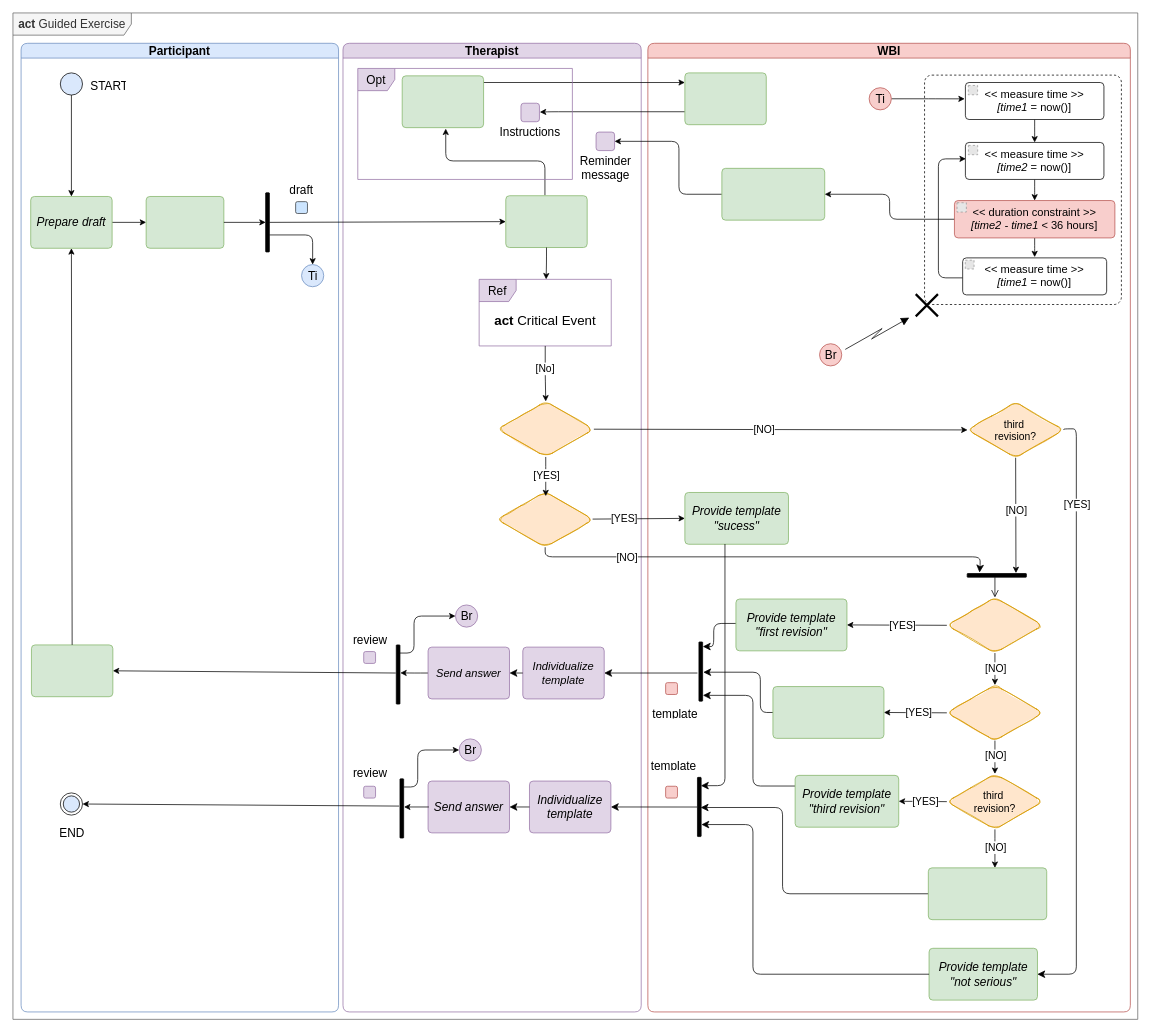
The diagram is 1151 pixels wide and 1032 high, and some of its shapes have lost their labels. Grey dashed boxes stand in for pictures. The shapes that lost their labels are listed below. From the top down, each one's centre as x and y in pixels, then its label:
point (442, 101): Click help button
point (725, 98): Provide instructions
point (773, 194): Send message
point (184, 222): Send draft
point (546, 221): Read draft
point (545, 429): serious done?
point (544, 519): sufficient answer?
point (994, 625): first revision?
point (72, 670): Read review
point (828, 712): Provide template "second revision"
point (994, 712): second revision?
point (987, 893): Provide template "final revision (no success)"
